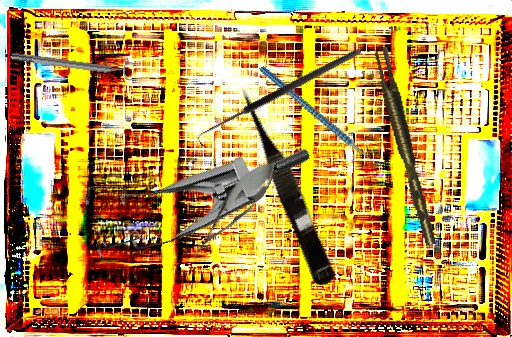Chopper: (259, 36, 389, 196)
Fixation Ring: (10, 45, 135, 83)
Hook Surgical: (194, 46, 367, 149)
Micro Scissor: (232, 79, 343, 289), (181, 150, 287, 268)
Speculum: (60, 68, 315, 299)
Tissue Forceps: (373, 45, 436, 248)
